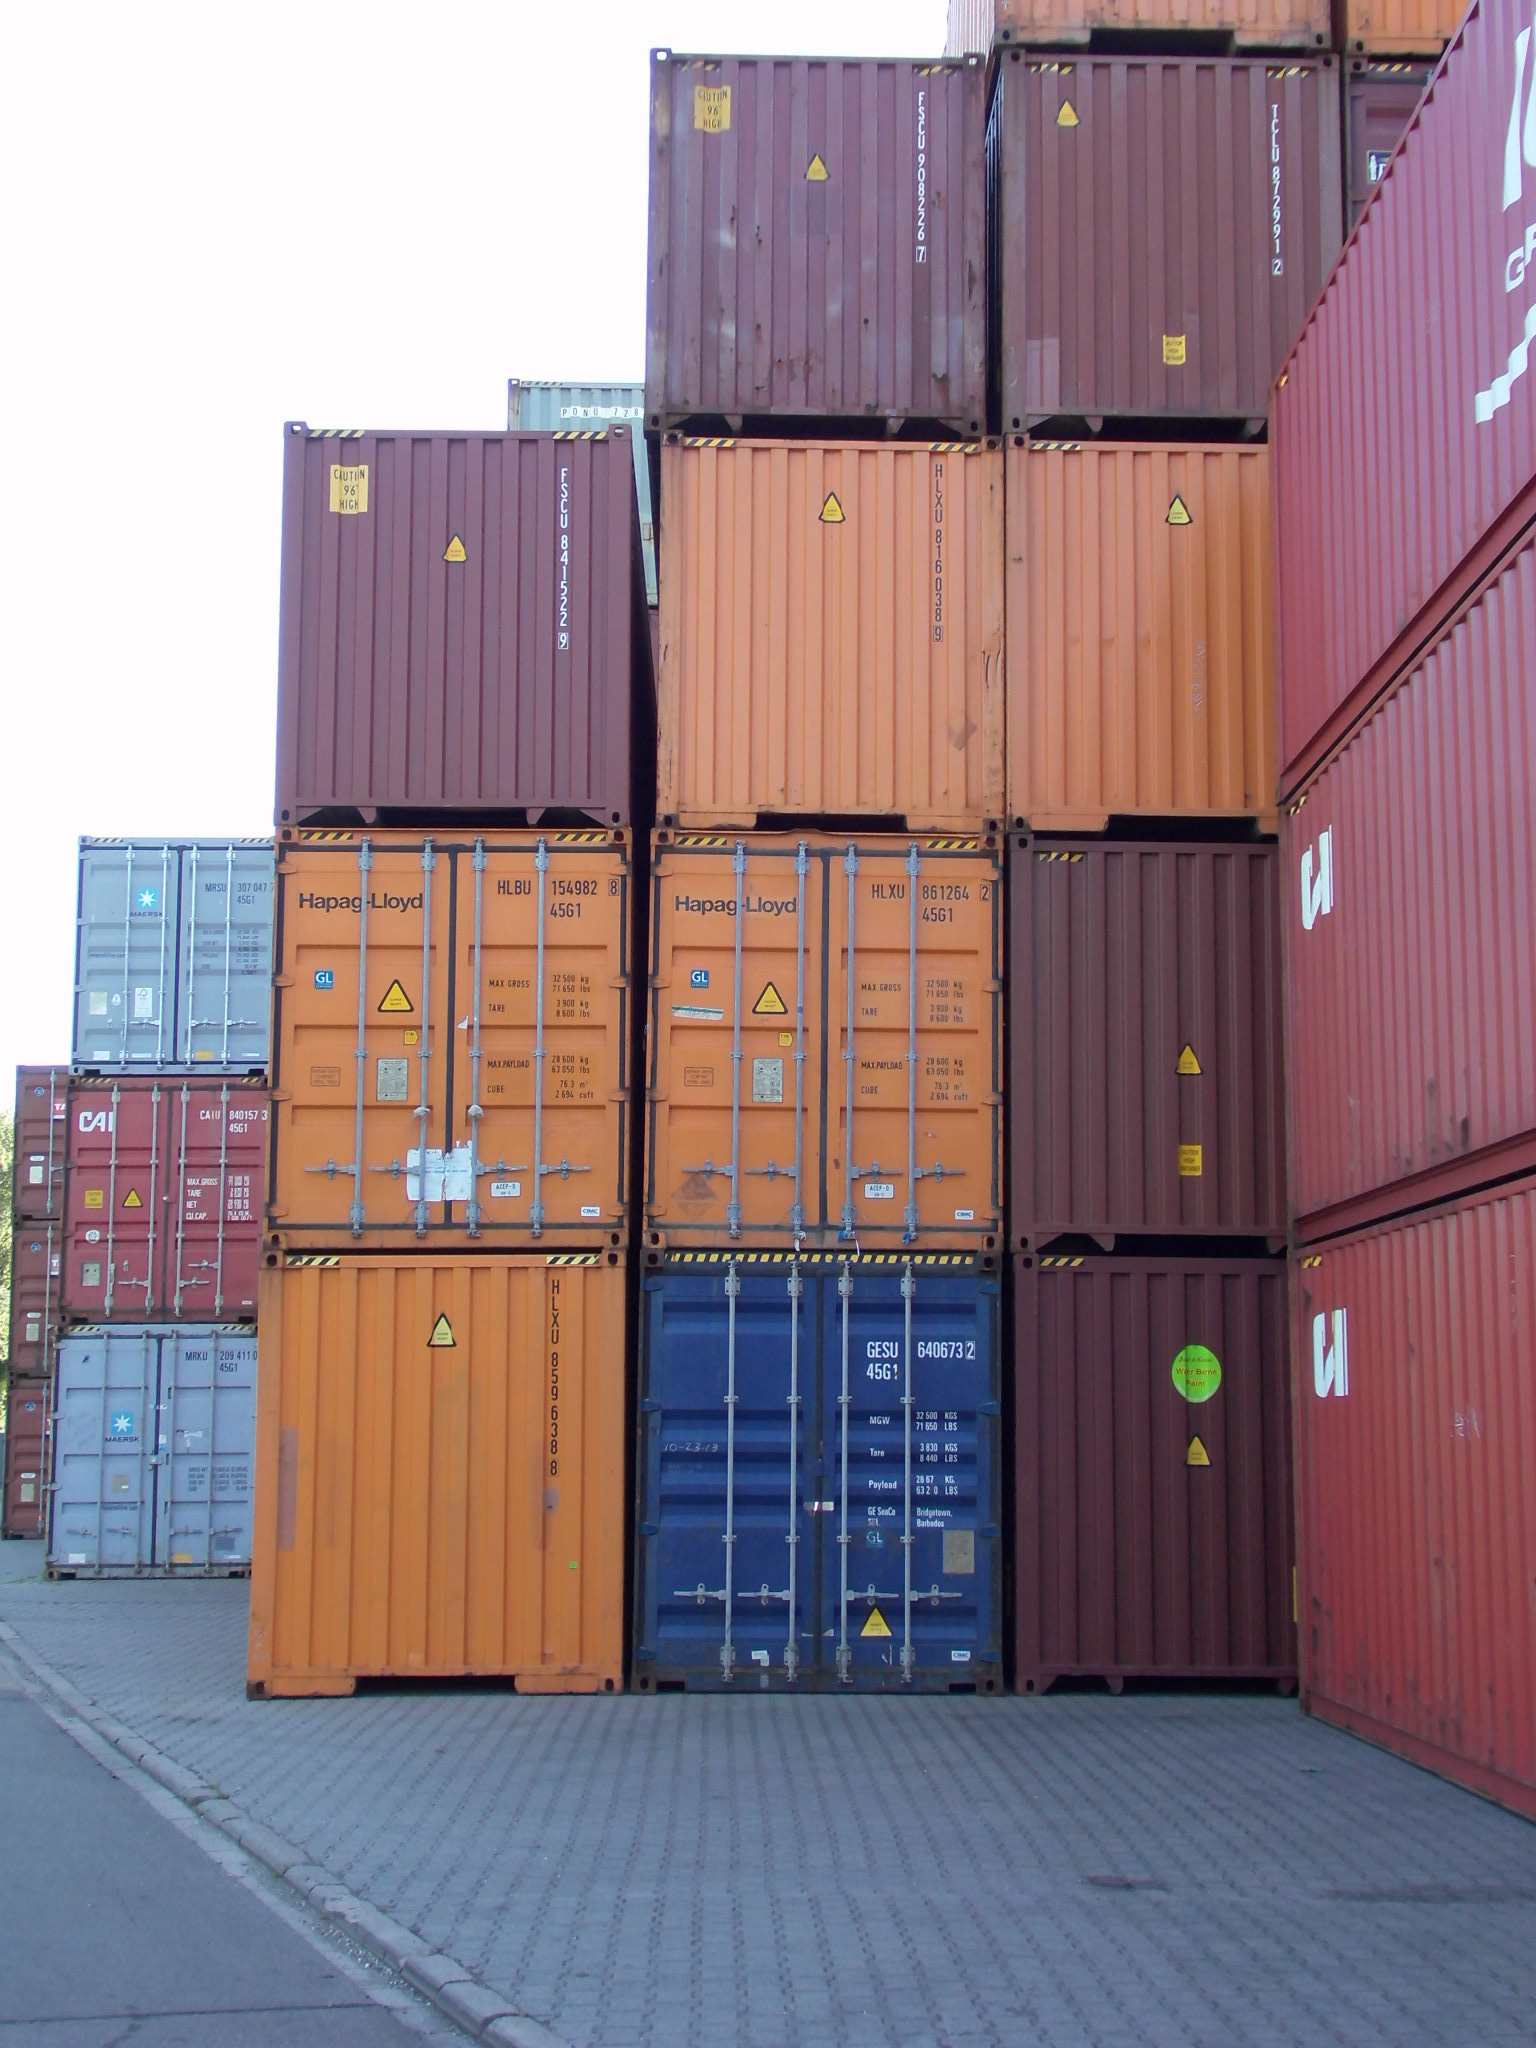container_door: (637, 1272, 999, 1692), (279, 830, 639, 1251), (634, 837, 994, 1256), (42, 1327, 263, 1582), (65, 835, 265, 1074), (66, 1080, 265, 1317)
container_no_door: (253, 1258, 629, 1693), (650, 432, 1004, 834), (282, 419, 632, 822), (650, 44, 991, 434), (1000, 45, 1325, 427), (1008, 1263, 1296, 1692), (1013, 839, 1292, 1256), (1008, 440, 1267, 834)
